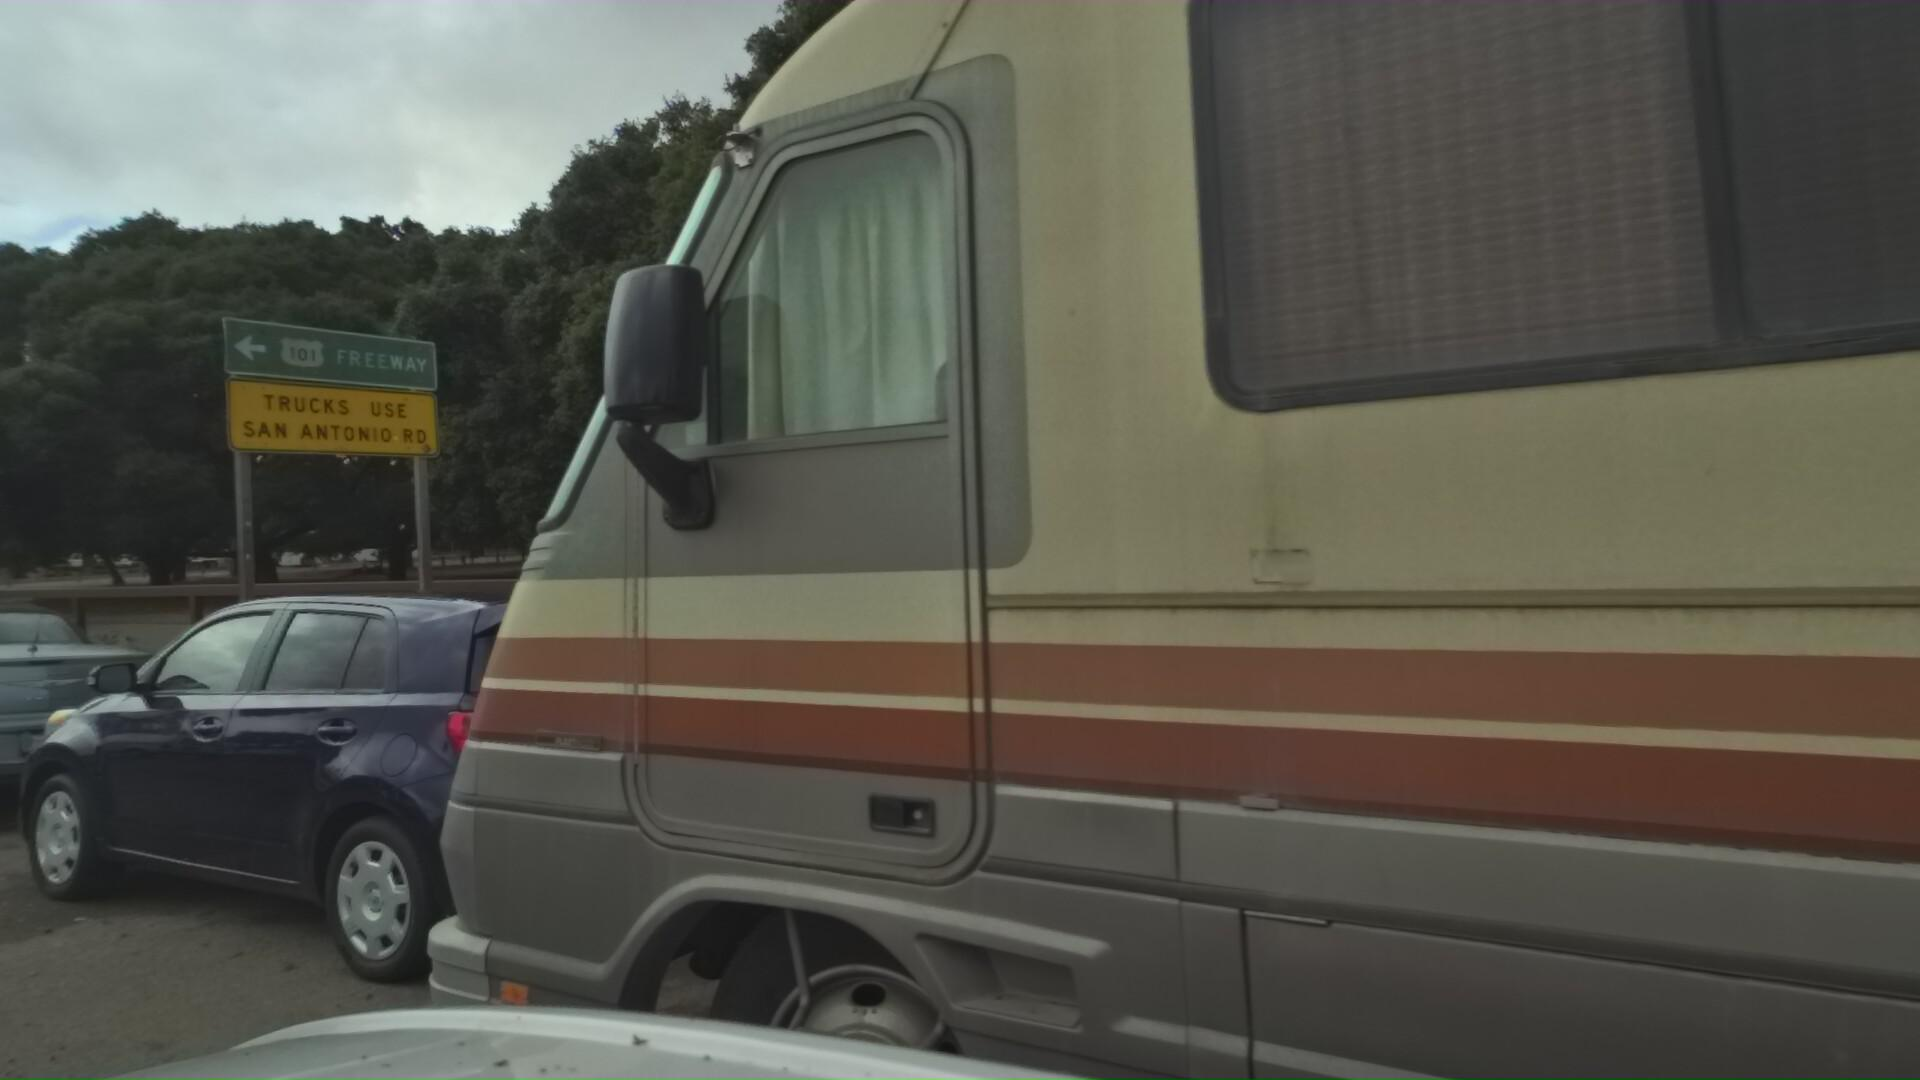car: (0, 562, 803, 1065), (0, 595, 214, 916)
